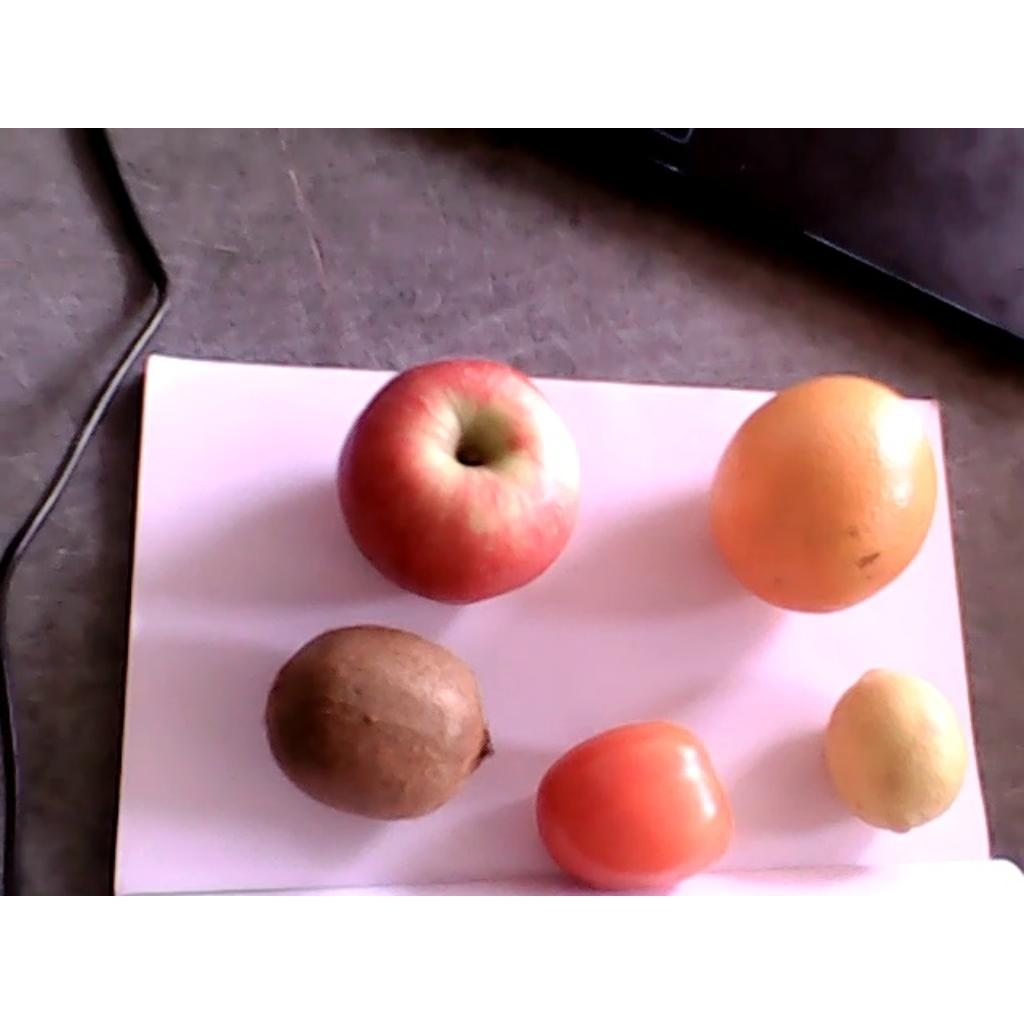apple: (339, 359, 581, 602)
kiwi: (265, 626, 497, 823)
lemon: (826, 669, 966, 835)
orange: (708, 375, 936, 611)
tomato: (536, 719, 732, 889)
